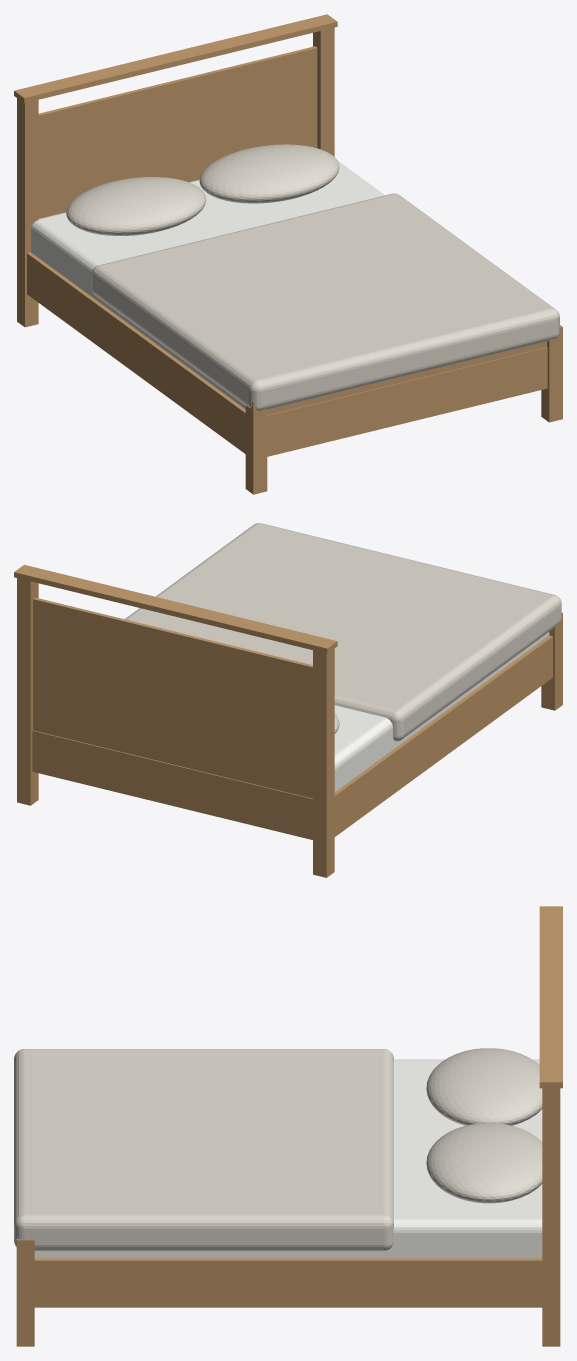
The model's file is 028_queen_bed.glb.
3 renders of one model, top to bottom at view 1: azimuth 30°, elevation 25°; view 2: azimuth 150°, elevation 25°; view 3: azimuth 270°, elevation 25°, orthographic. The views are drawn at different scales.
Parts seen in each view (by area): view 1: 020_bed_duvet, 008_bed_headboard_panel, 007_bed_foot_rail, 019_bed_mattress, 004_bed_side_rail_l, 022_bed_pillow_2, 021_bed_pillow_1, 009_bed_headboard_cap, 000_bed_head_post, 002_bed_head_post, 001_bed_foot_post, 010_bed_footboard_panel (+1 smaller); view 2: 020_bed_duvet, 008_bed_headboard_panel, 006_bed_head_rail, 004_bed_side_rail_l, 009_bed_headboard_cap, 000_bed_head_post, 019_bed_mattress, 002_bed_head_post, 001_bed_foot_post; view 3: 020_bed_duvet, 005_bed_side_rail_r, 019_bed_mattress, 022_bed_pillow_2, 021_bed_pillow_1, 002_bed_head_post, 009_bed_headboard_cap, 003_bed_foot_post.
Part boxes in pixels (<box>): 020_bed_duvet: <box>91,193,559,410</box>; 008_bed_headboard_panel: <box>38,46,317,218</box>; 007_bed_foot_rail: <box>267,347,547,456</box>; 019_bed_mattress: <box>31,161,384,408</box>; 004_bed_side_rail_l: <box>27,252,245,453</box>; 022_bed_pillow_2: <box>199,144,339,203</box>; 021_bed_pillow_1: <box>66,177,206,235</box>; 009_bed_headboard_cap: <box>14,14,337,103</box>; 000_bed_head_post: <box>17,98,38,327</box>; 002_bed_head_post: <box>313,27,334,156</box>; 001_bed_foot_post: <box>245,401,267,494</box>; 010_bed_footboard_panel: <box>267,341,546,415</box>; 020_bed_duvet: <box>125,523,561,741</box>; 008_bed_headboard_panel: <box>33,597,312,798</box>; 006_bed_head_rail: <box>32,730,312,839</box>; 004_bed_side_rail_l: <box>334,635,552,836</box>; 009_bed_headboard_cap: <box>14,564,337,653</box>; 000_bed_head_post: <box>313,649,334,877</box>; 019_bed_mattress: <box>334,632,549,791</box>; 002_bed_head_post: <box>17,578,38,805</box>; 001_bed_foot_post: <box>541,612,562,710</box>; 020_bed_duvet: <box>14,1049,393,1250</box>; 005_bed_side_rail_r: <box>34,1258,542,1307</box>; 019_bed_mattress: <box>34,1059,542,1258</box>; 022_bed_pillow_2: <box>426,1123,542,1203</box>; 021_bed_pillow_1: <box>426,1048,542,1125</box>; 002_bed_head_post: <box>542,1088,560,1346</box>; 009_bed_headboard_cap: <box>539,906,562,1088</box>; 003_bed_foot_post: <box>16,1238,34,1346</box>.
Bounding box in the file's own units: 1.6 × 1.12 × 2.11.
